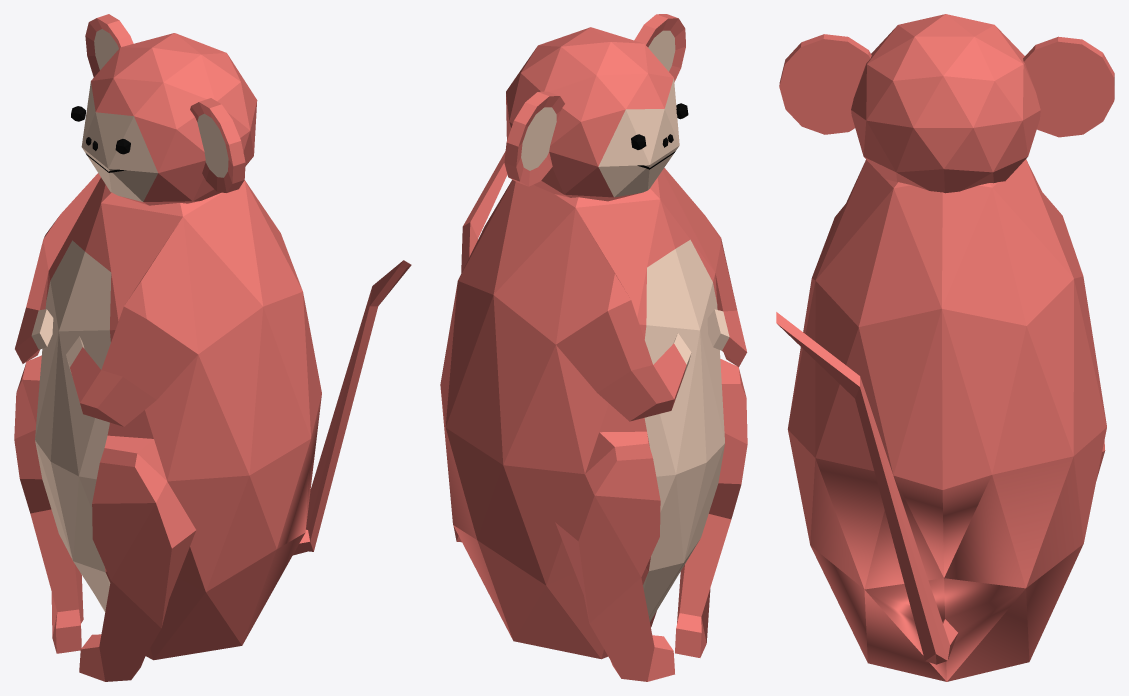
File: MonkeyRed.fbx
3 renders of one model, left to right at view 1: azimuth 30°, elevation 25°; view 2: azimuth 150°, elevation 25°; view 3: azimuth 270°, elevation 25°, orthographic. The views are drawn at different scales.
Parts seen in each view (by area): view 1: MonkeyRed, JoinedMonkey.002; view 2: MonkeyRed, JoinedMonkey.002; view 3: MonkeyRed, JoinedMonkey.002.
Boxes of the visible parts, box(x1,y1,x2,y2) form: MonkeyRed: box(14, 173, 411, 681); JoinedMonkey.002: box(71, 14, 257, 205); MonkeyRed: box(440, 151, 747, 681); JoinedMonkey.002: box(504, 14, 688, 201); MonkeyRed: box(776, 159, 1106, 681); JoinedMonkey.002: box(779, 14, 1114, 193).
Size of the model in its own units: 128 by 251 by 121.
